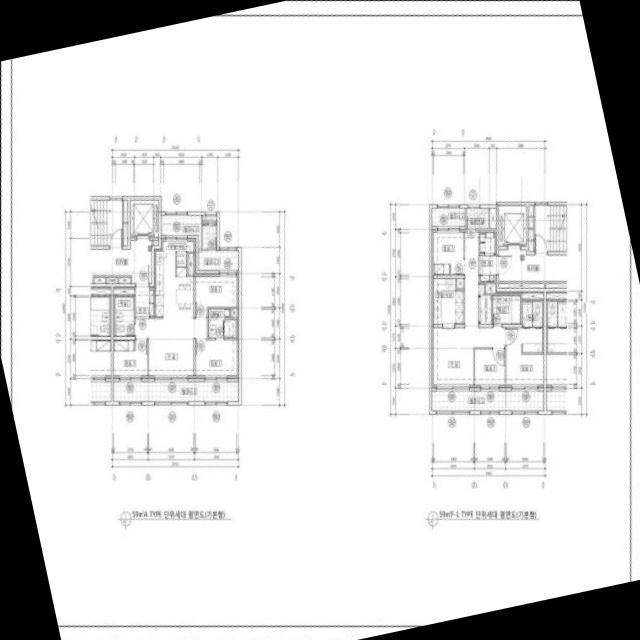background: (0, 0, 640, 640)
space_balconi: (113, 381, 238, 401), (431, 390, 543, 410), (160, 215, 200, 248), (197, 250, 238, 270), (431, 208, 464, 225)
space_bedroom: (505, 327, 543, 387), (195, 270, 238, 316), (195, 339, 238, 377), (431, 229, 463, 274), (113, 339, 146, 377), (474, 349, 504, 387)
space_elevator: (498, 205, 525, 245), (130, 199, 158, 236)
space_elevator_hall: (89, 240, 151, 283), (498, 249, 566, 280)
space_front: (134, 286, 153, 318), (479, 255, 495, 281), (479, 229, 495, 253)
space_kitchen: (153, 238, 195, 318), (431, 278, 463, 323)
space_living_room: (431, 229, 504, 387), (135, 318, 206, 377), (479, 295, 490, 323)
space_other: (498, 282, 543, 287), (123, 199, 127, 245), (113, 286, 133, 294), (521, 291, 543, 298), (187, 253, 194, 274), (489, 207, 495, 227), (528, 205, 533, 227), (528, 229, 533, 250), (485, 283, 495, 292), (93, 277, 104, 283), (106, 277, 117, 283), (456, 278, 463, 287), (231, 308, 238, 316), (118, 277, 129, 282), (152, 240, 158, 245)
space_outdoor_room: (202, 215, 216, 248), (466, 208, 487, 227)
space_staircase: (89, 199, 121, 245), (534, 205, 566, 251)
space_toilet: (492, 295, 520, 323), (208, 308, 235, 337), (114, 296, 133, 335), (532, 300, 541, 326), (522, 300, 531, 326)
